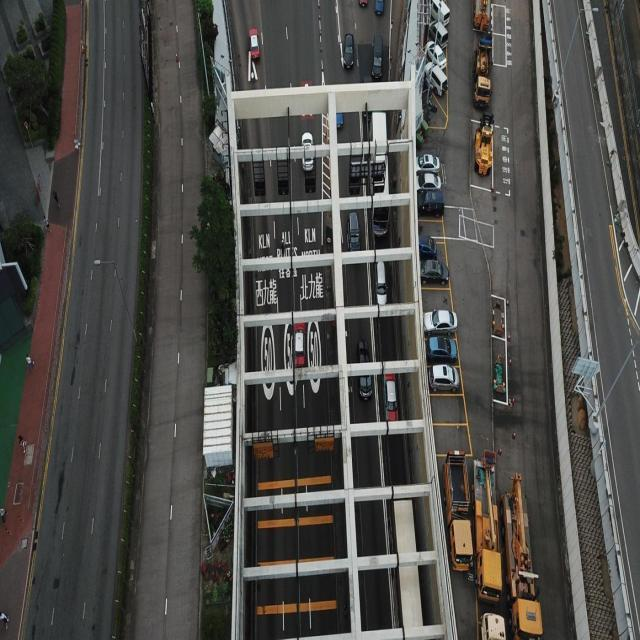p3rson: (42, 214, 51, 232), (25, 352, 34, 370), (18, 434, 26, 452), (0, 610, 8, 628), (0, 506, 7, 524), (52, 190, 59, 207)
